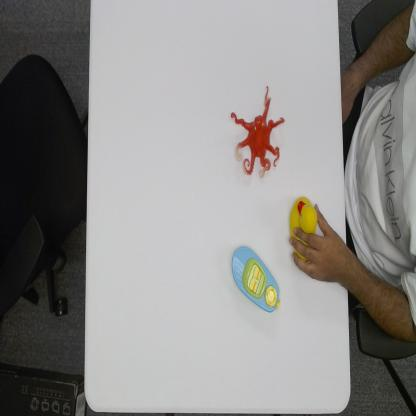Arm: (354, 252, 414, 345)
Boat: (229, 243, 280, 314)
Duck: (288, 194, 319, 233)
Hand: (290, 222, 351, 281)
Octopus: (230, 84, 286, 173)
